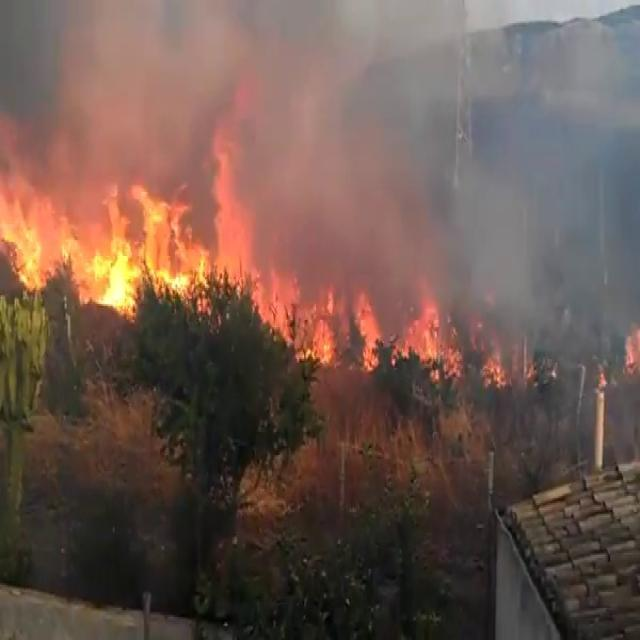Fire: (0, 164, 208, 318), (255, 265, 463, 379), (621, 306, 640, 382)
Smoke: (0, 0, 640, 359)
